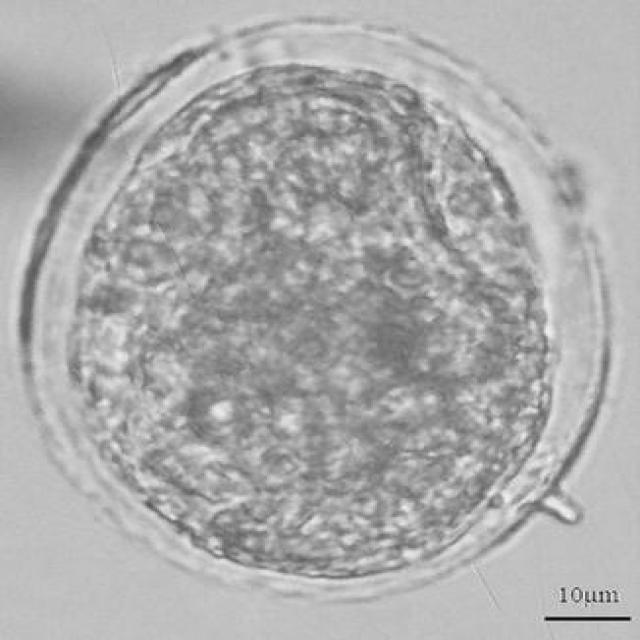Schistosoma: (8, 13, 616, 618)
